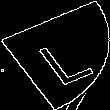L_NW: (20, 25, 90, 85)
